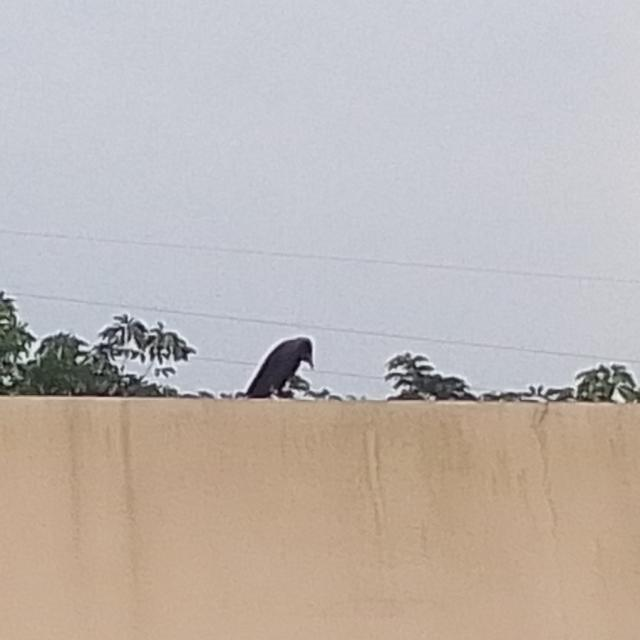bird: (242, 334, 316, 401)
